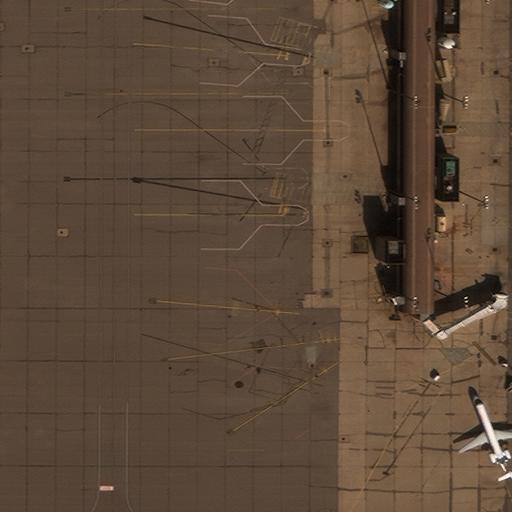Medium Civil Transport: (458, 396, 511, 478)
